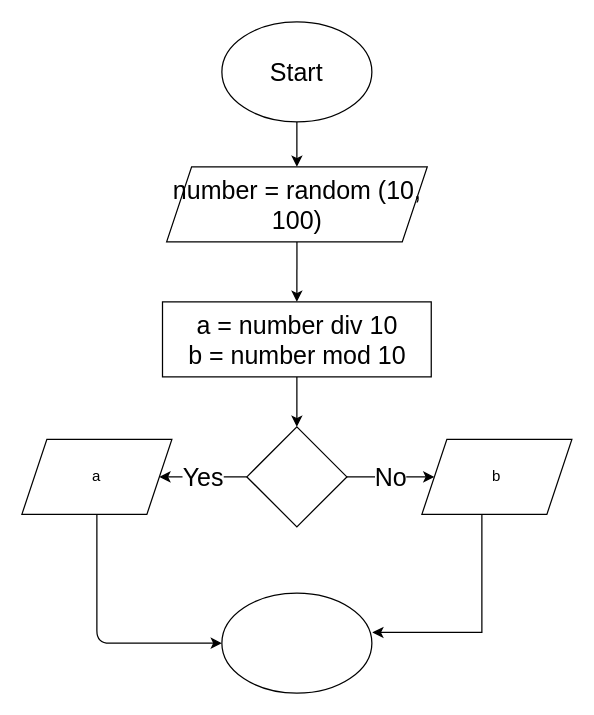
Image size: 594x715. Some labels were removed from this diagram. The shapes that lost their labels are listed below. From the top down, each one's centre as x and y in pixels, then its label:
point (296, 476): a > b
point (296, 642): end
